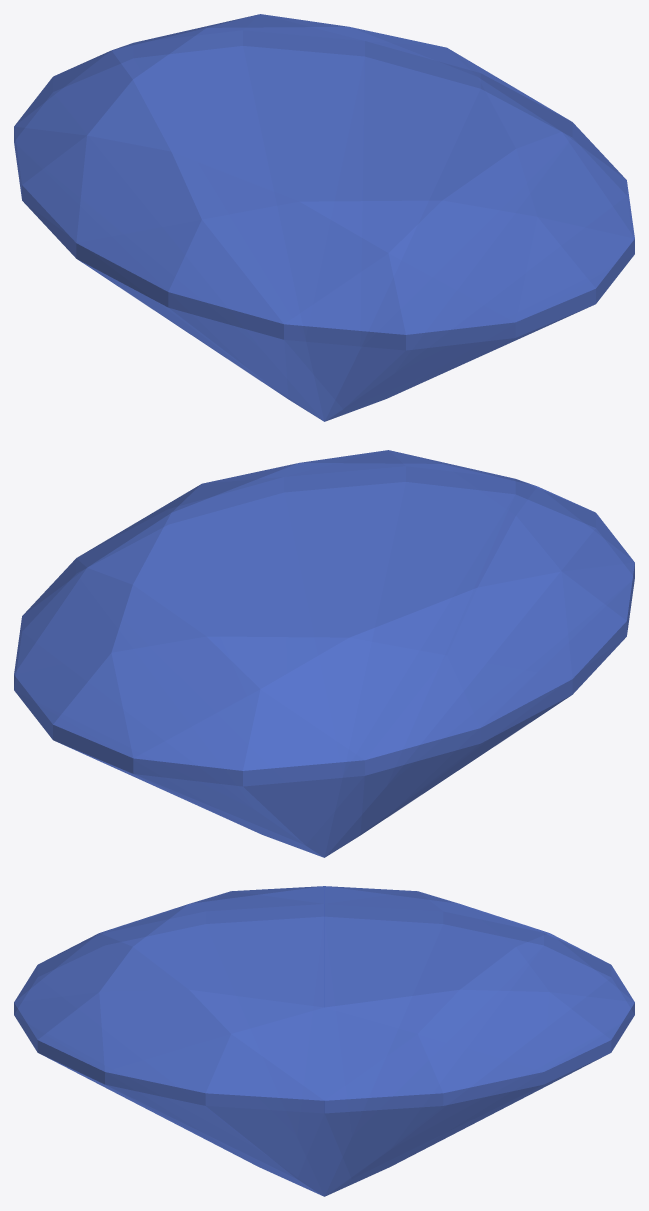
The model's file is GemOvalSapphire.obj.
The picture shows the model from 3 angles, top to bottom: view 1: azimuth 30°, elevation 25°; view 2: azimuth 150°, elevation 25°; view 3: azimuth 270°, elevation 25°; orthographic projection. The views are drawn at different scales.
Parts seen in each view (by area): view 1: Sapphire; view 2: Sapphire; view 3: Sapphire.
Boxes of the visible parts, x1,y1,x2,y2 form: Sapphire: [14, 14, 634, 421]; Sapphire: [14, 450, 634, 857]; Sapphire: [14, 886, 634, 1196].
Bounding box in the file's own units: 0.006 × 0.00356 × 0.008.
